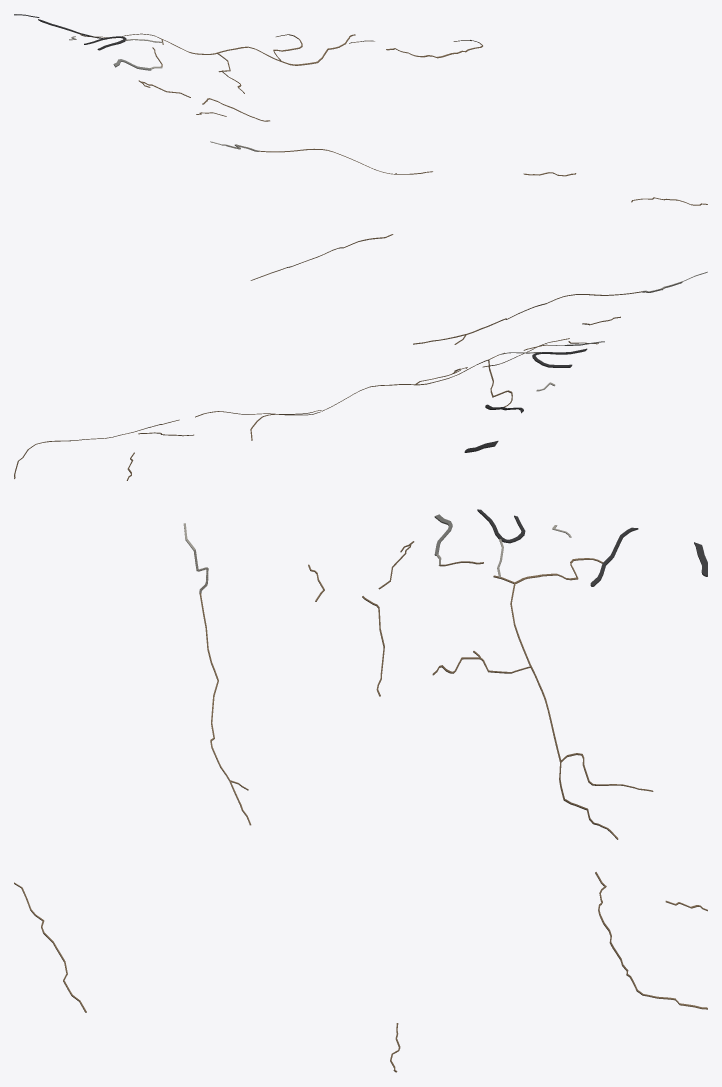
The picture shows the model from 3 angles, top to bottom: view 1: azimuth 30°, elevation 25°; view 2: azimuth 150°, elevation 25°; view 3: azimuth 270°, elevation 25°; orthographic projection. The views are drawn at different scales.
Bounding box in the file's own units: 587 × 257 × 583.
